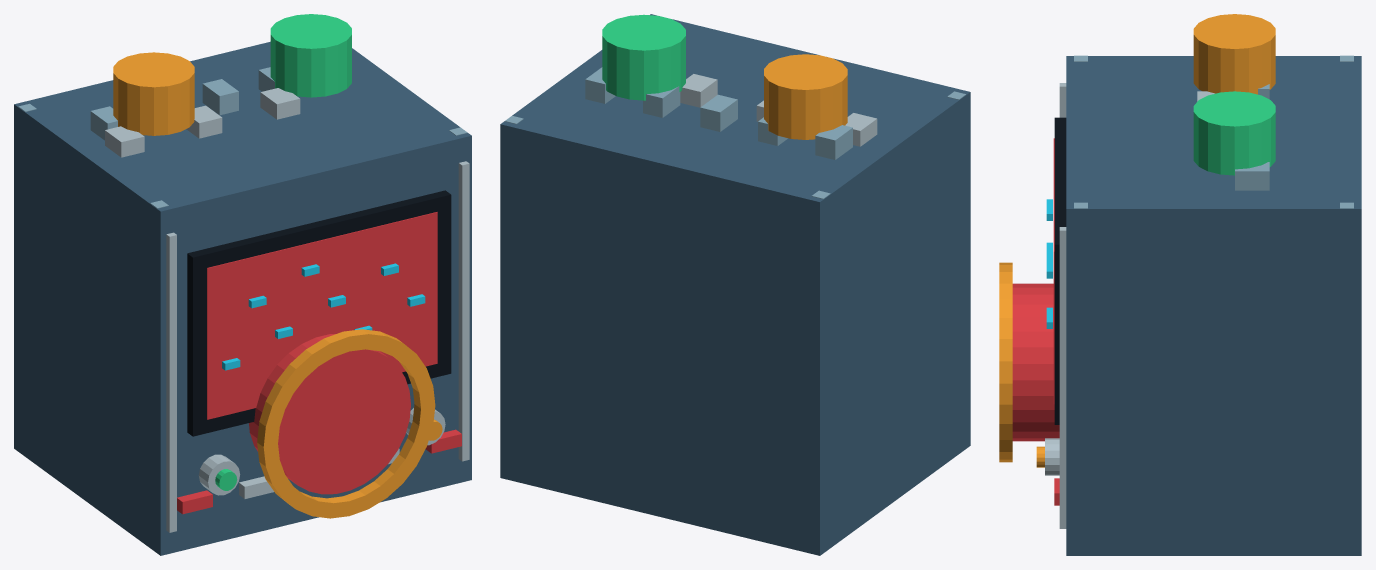
File: 49_L72_EmergencyDepositionSafetyStation.fbx
3 renders of one model, left to right at view 1: azimuth 30°, elevation 25°; view 2: azimuth 150°, elevation 25°; view 3: azimuth 270°, elevation 25°, orthographic. The views are drawn at different scales.
Parts seen in each view (by area): view 1: EmergencyDepositionSafetyStation; view 2: EmergencyDepositionSafetyStation; view 3: EmergencyDepositionSafetyStation.
Part boxes in pixels (left/top/right/bottom): EmergencyDepositionSafetyStation: left=14, top=14, right=471, bottom=555; EmergencyDepositionSafetyStation: left=500, top=14, right=970, bottom=555; EmergencyDepositionSafetyStation: left=999, top=14, right=1361, bottom=555.
Bounding box in the file's own units: 87 × 108 × 87.1.
